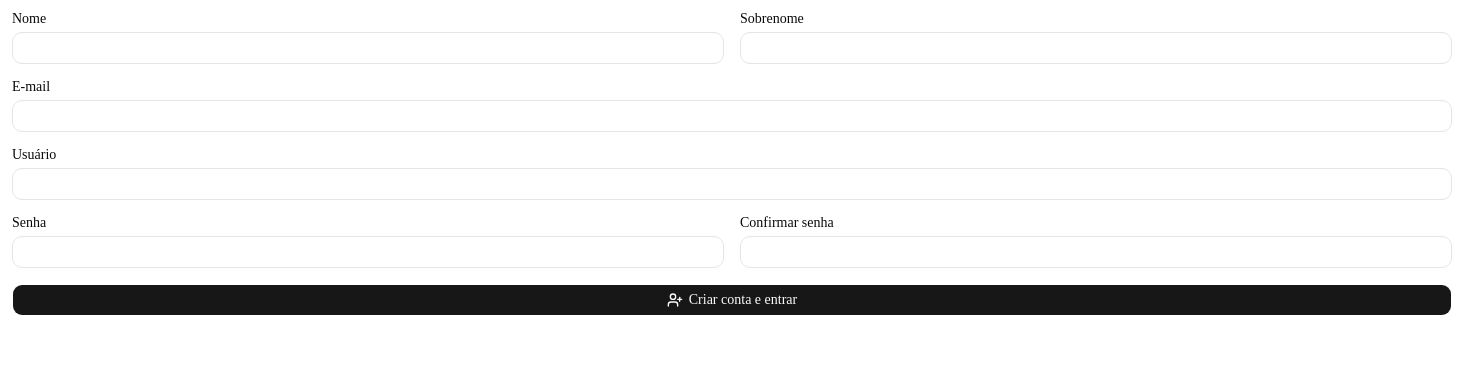
Scenario: FormularioCadastro › deve avisar quando a conta for criada mas o login automático falhar
The image size is (1464, 384).
Step 1. Type "Carla" into the field labelled "Nome" → (368,48), box [12, 32, 724, 64]
Step 2. Type "Dias" into the field labelled "Sobrenome" → (1096,48), box [740, 32, 1452, 64]
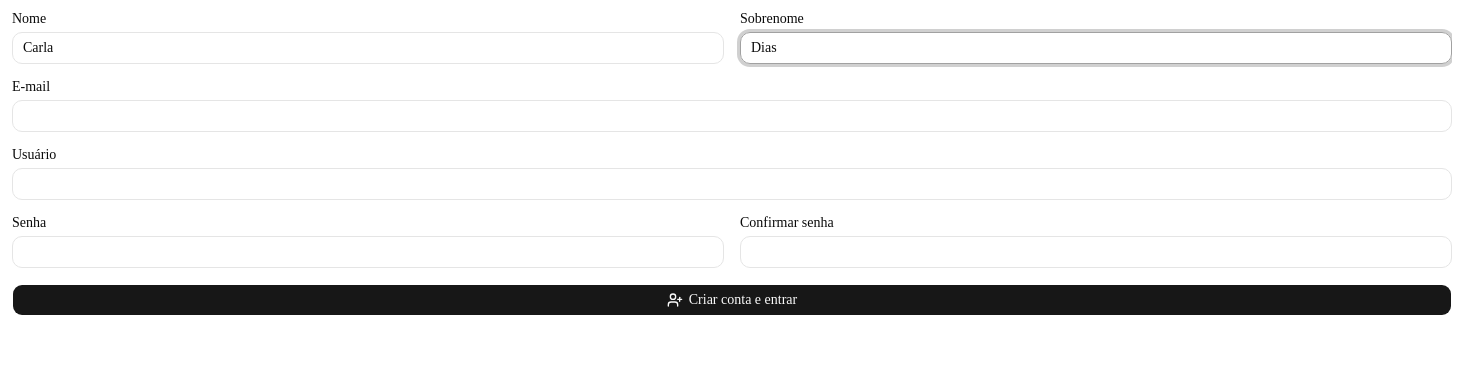
Step 3. Type "carla@exemplo.com.br" into the field labelled "E-mail" → (732,116), box [12, 100, 1452, 132]
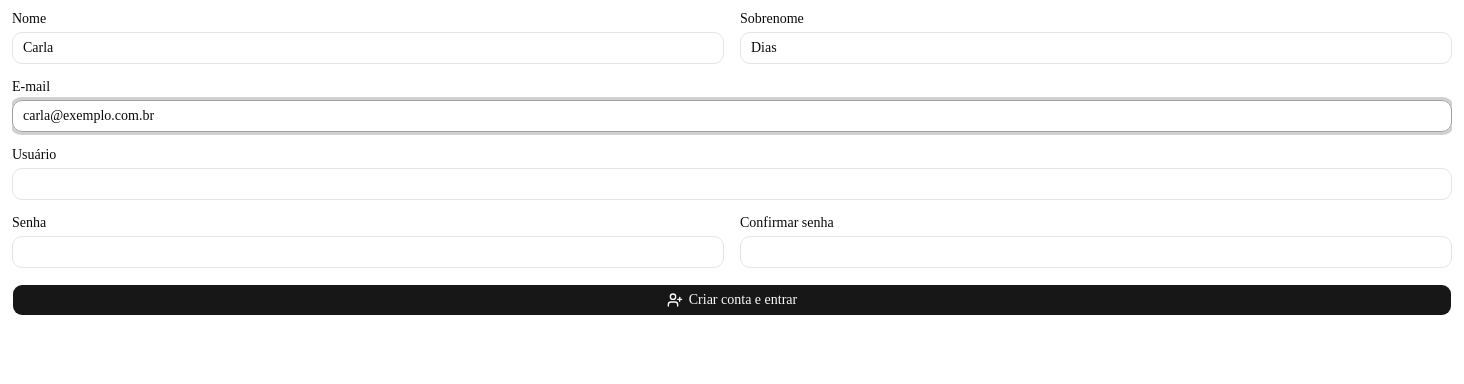
Step 4. Type "carla" into the field labelled "Usuário" → (732,184), box [12, 168, 1452, 200]
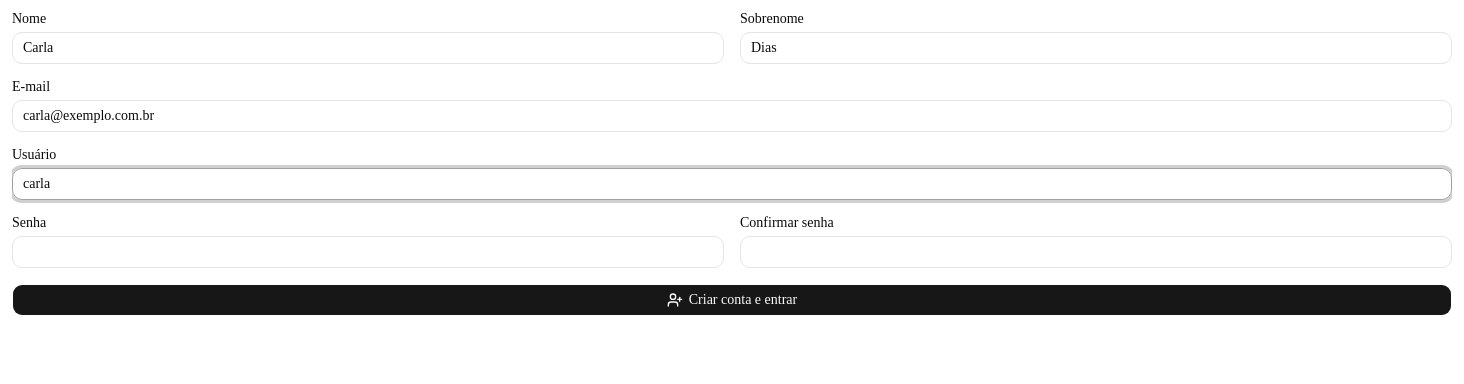
Step 5. Type "segredo123" into the password field labelled "Senha" → (368,252), box [12, 236, 724, 268]
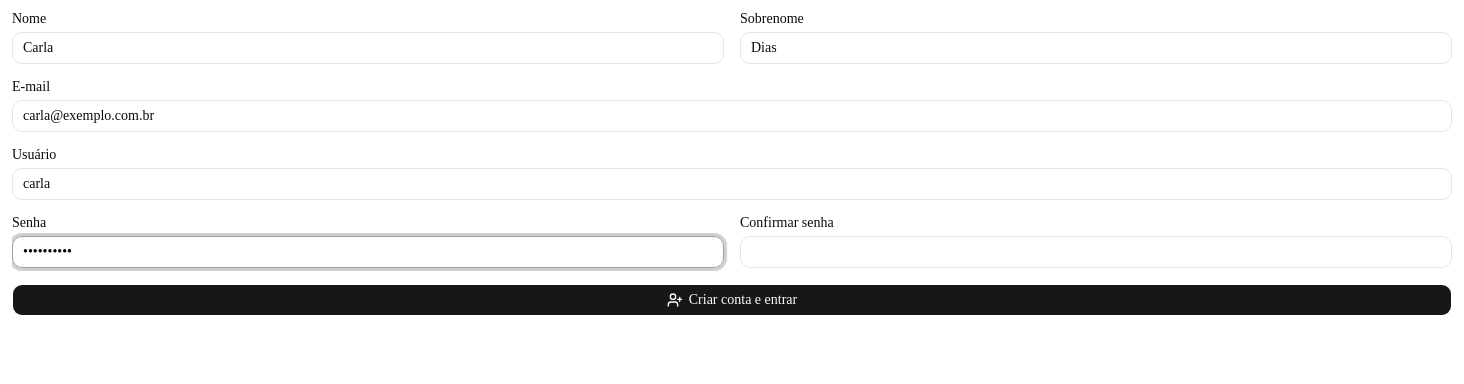
Step 6. Type "segredo123" into the password field labelled "Confirmar senha" → (1096,252), box [740, 236, 1452, 268]
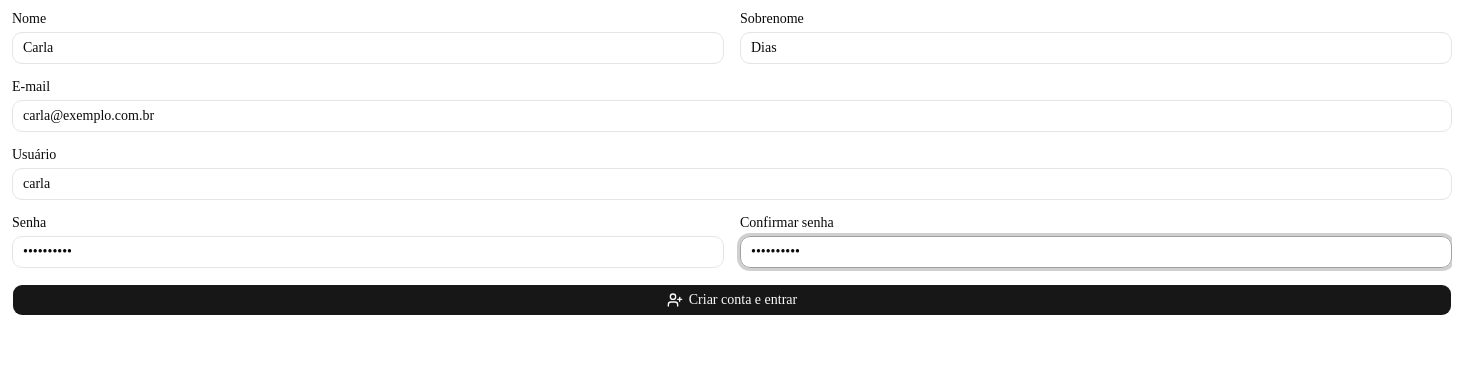
Step 7. Click the button "Criar conta e entrar" → (732,300), box [12, 284, 1452, 316]
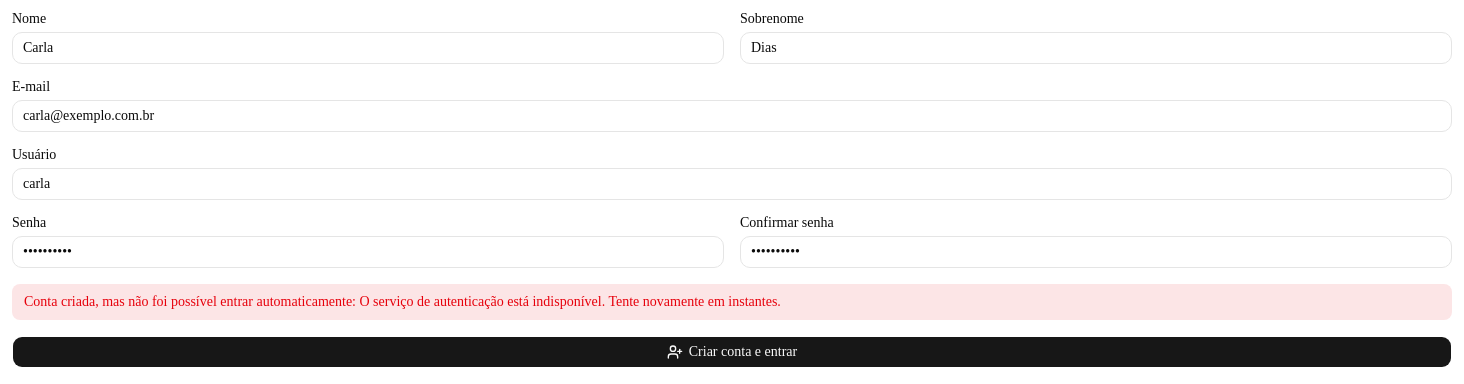
Result: the text "Conta criada, mas não foi possível entrar automaticamente" is shown at [24, 294, 781, 309]
